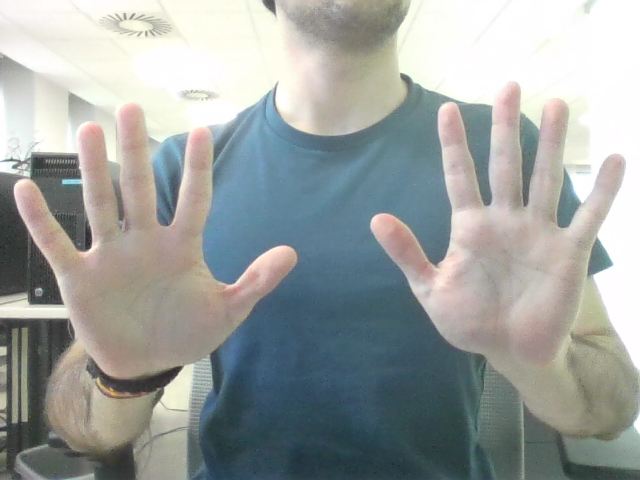Manos Arriba: (54, 109, 585, 330)
